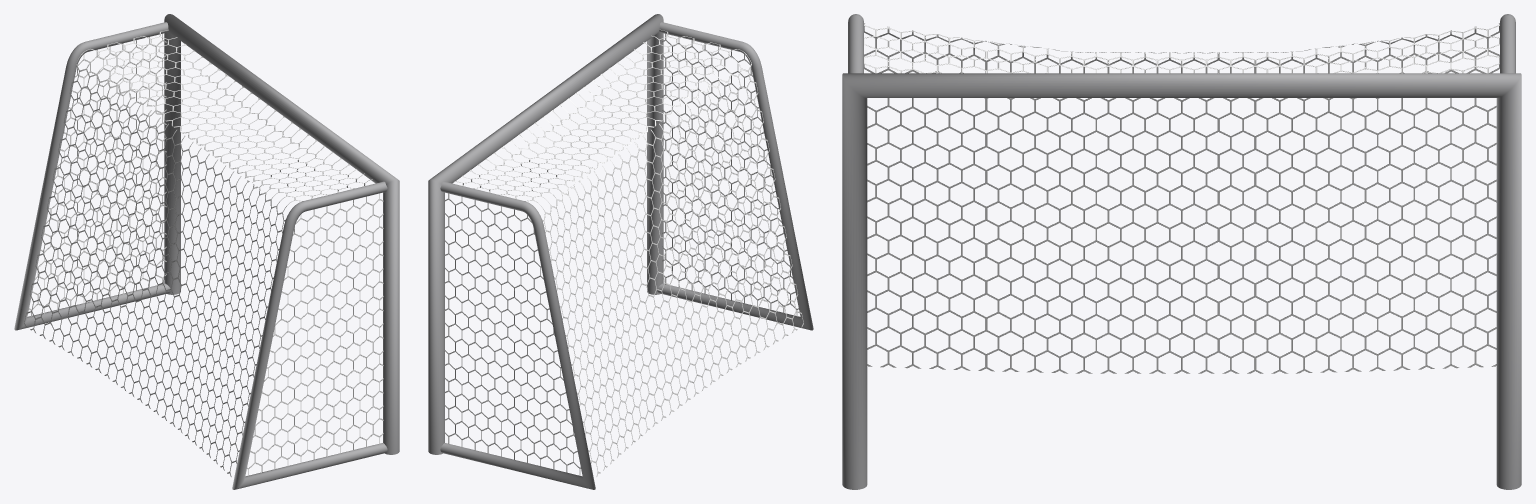
Rendered from Boliche_Porteria.obj.
The picture shows the model from 3 angles, left to right: view 1: azimuth 30°, elevation 25°; view 2: azimuth 150°, elevation 25°; view 3: azimuth 270°, elevation 25°; orthographic projection. The views are drawn at different scales.
Visible parts, largest first — view 1: Shape01; view 2: Shape01; view 3: Shape01.
Boxes of the visible parts, box(x1,y1,x2,y2) form: Shape01: box(14, 14, 399, 489); Shape01: box(428, 14, 813, 489); Shape01: box(842, 14, 1521, 489).
Bounding box in the file's own units: 5.63 × 8.92 × 13.38.
